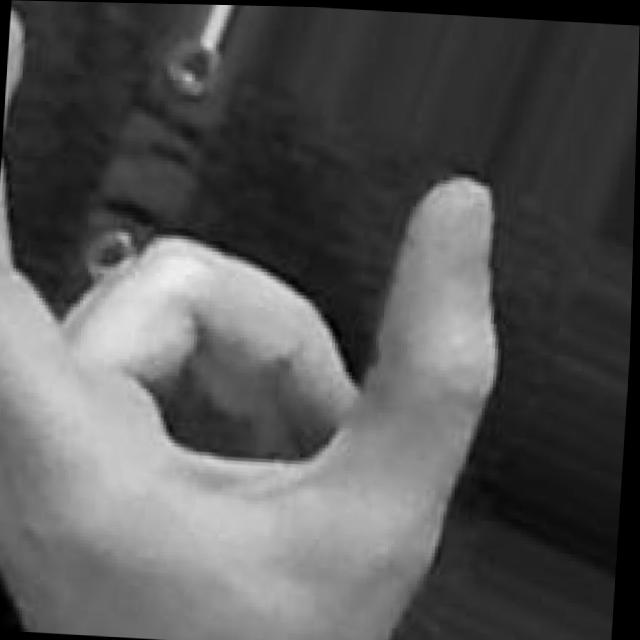U: (0, 0, 525, 640)
